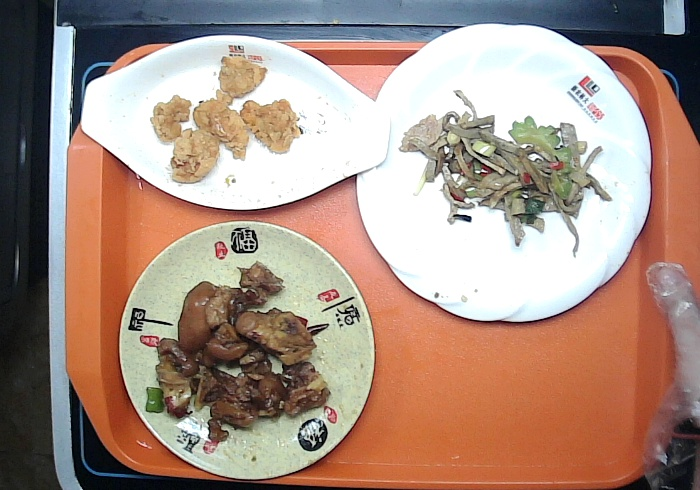NLDX-Bai_Zhe_Yuan_Pan: (352, 19, 655, 328)
NLDX-Fu_Zi_Yuan_Pan: (117, 221, 377, 480)
NLDX-Yu_Pan: (79, 32, 396, 211)
